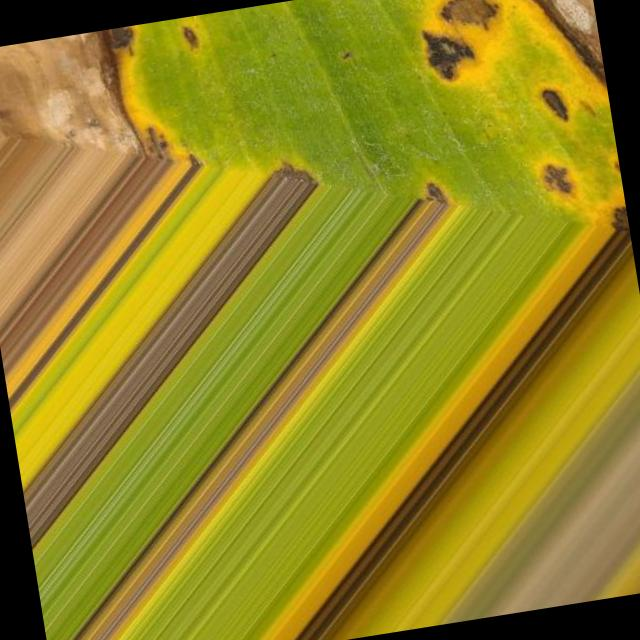Banana_Black_Sigatoka: (384, 0, 628, 255), (0, 8, 268, 216)
